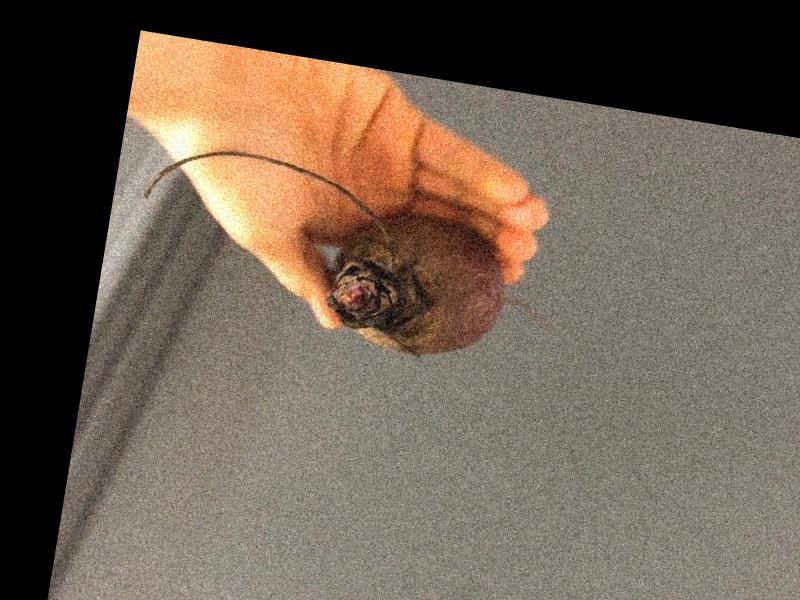Beet: (128, 136, 567, 374)
